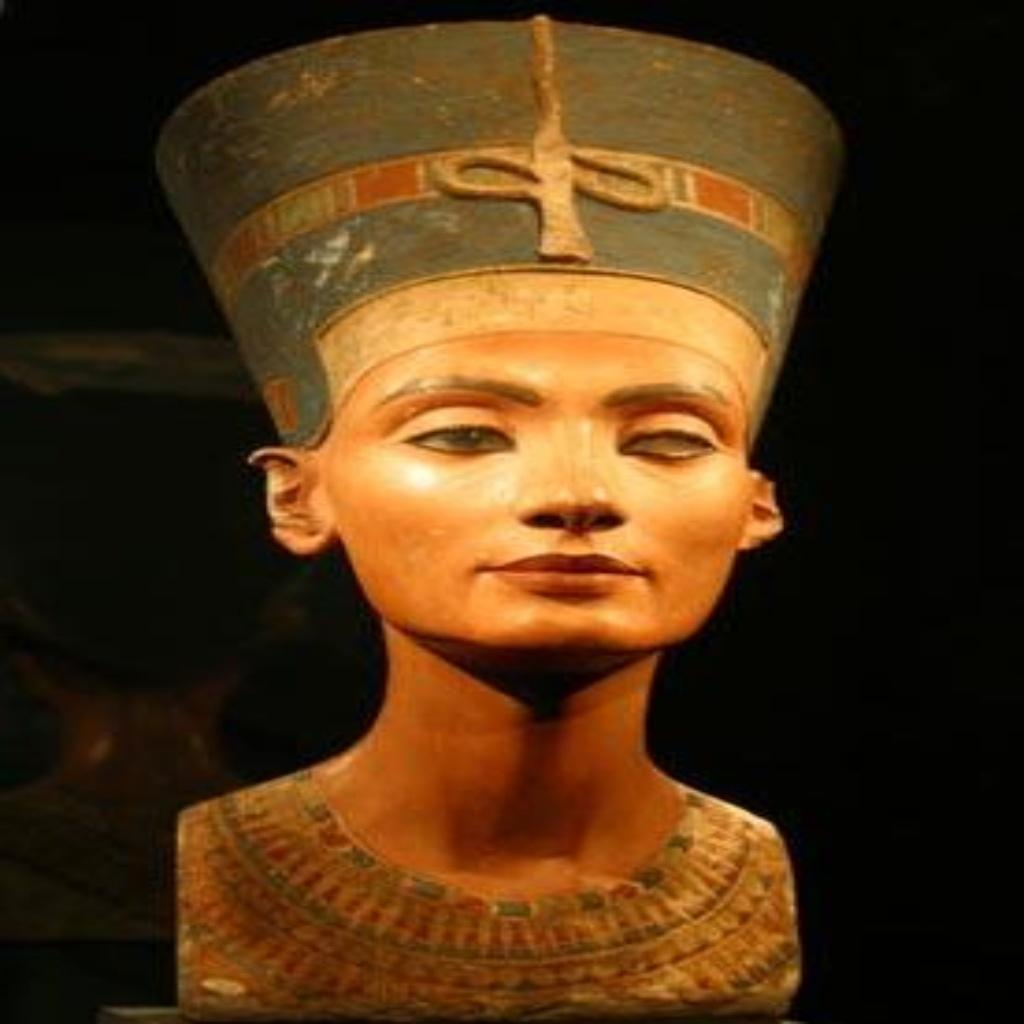Nefertiti: (144, 12, 850, 1022)
